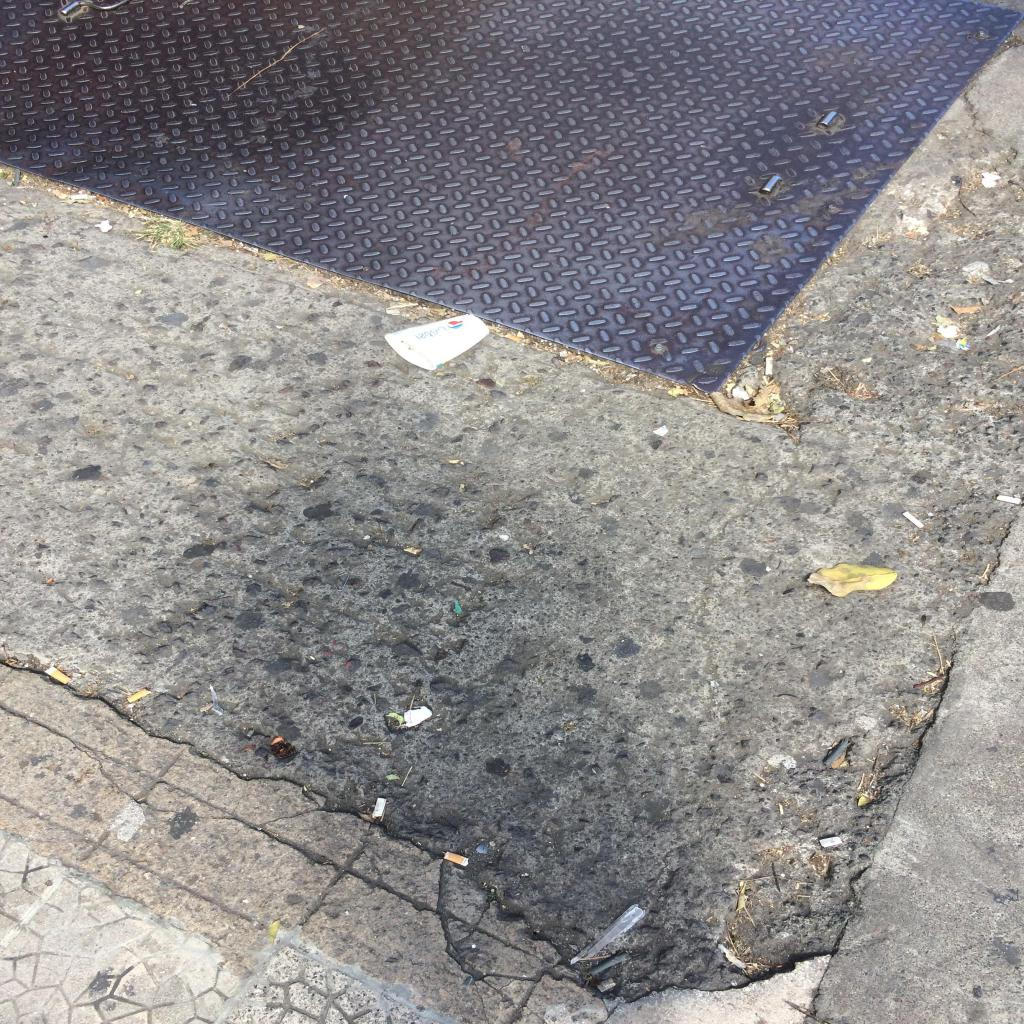Cigarette: (45, 666, 73, 684), (127, 688, 151, 704), (903, 512, 925, 529), (444, 852, 470, 866), (373, 798, 387, 818), (998, 495, 1020, 505), (766, 357, 774, 375)
Other plastic bottle: (571, 904, 645, 964), (587, 951, 632, 976)
Paper cup: (385, 314, 489, 370)
Unlabeled litter: (405, 707, 432, 727)
